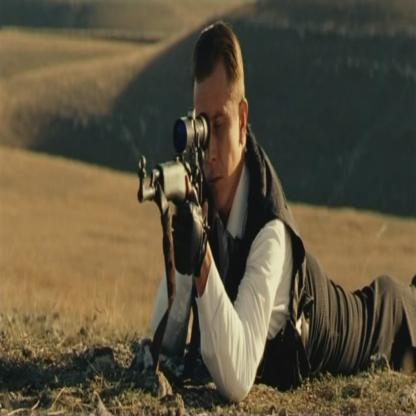gun: (133, 89, 215, 279)
